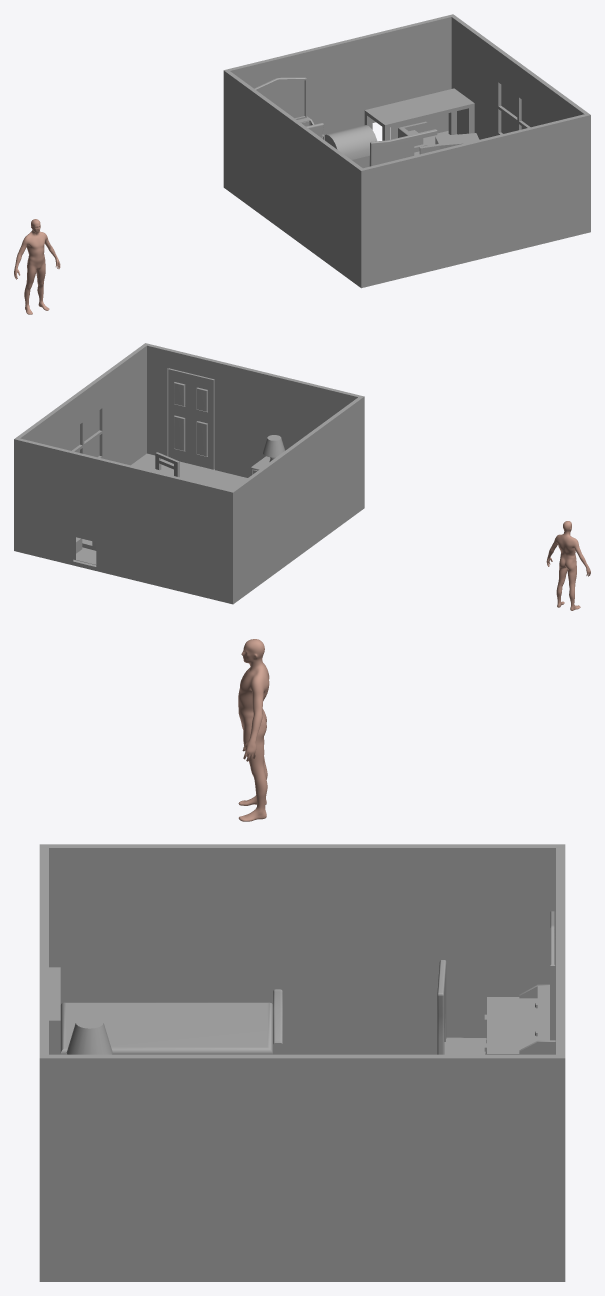
Rendered from Level DesignGirl_Bedroom.fbx.
The picture shows the model from 3 angles, top to bottom: view 1: azimuth 30°, elevation 25°; view 2: azimuth 150°, elevation 25°; view 3: azimuth 270°, elevation 25°; orthographic projection. The views are drawn at different scales.
Parts seen in each view (by area): view 1: Walls, Table, HumanBody:humanBody, MakeupDesk, Desk_Chair, Chest, Laundry; view 2: Walls, HumanBody:humanBody, Lamp, pCube7; view 3: Walls, Bed, MakeupDesk, HumanBody:humanBody, Chair_MakeupDesk, Lamp.
Boxes of the visible parts, left/top/right/bottom form: Walls: left=223, top=14, right=590, bottom=288; Table: left=364, top=88, right=474, bottom=140; HumanBody:humanBody: left=14, top=219, right=60, bottom=314; MakeupDesk: left=254, top=77, right=324, bottom=140; Desk_Chair: left=369, top=121, right=437, bottom=166; Chest: left=324, top=125, right=377, bottom=168; Laundry: left=419, top=133, right=479, bottom=154; Walls: left=14, top=343, right=364, bottom=604; HumanBody:humanBody: left=546, top=521, right=590, bottom=610; Lamp: left=263, top=435, right=285, bottom=461; pCube7: left=155, top=452, right=179, bottom=477; Walls: left=39, top=844, right=565, bottom=1281; Bed: left=49, top=967, right=282, bottom=1054; MakeupDesk: left=484, top=911, right=555, bottom=1054; HumanBody:humanBody: left=238, top=639, right=269, bottom=821; Chair_MakeupDesk: left=437, top=960, right=486, bottom=1054; Lamp: left=66, top=1016, right=112, bottom=1054.
Bounding box in the file's own units: 11.01 × 2.37 × 5.04.
